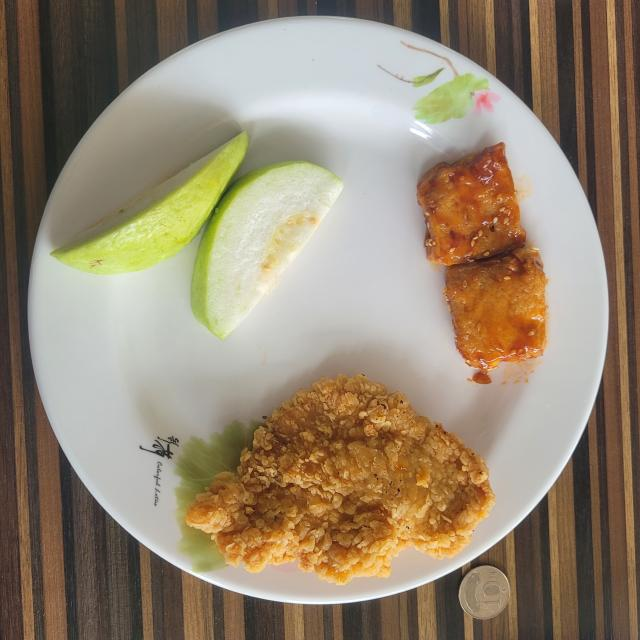coin: (459, 565, 510, 620)
creamy tofu: (418, 142, 546, 384)
fried chicken cutlet: (186, 375, 495, 584)
guava -sliced-: (51, 131, 344, 339)
